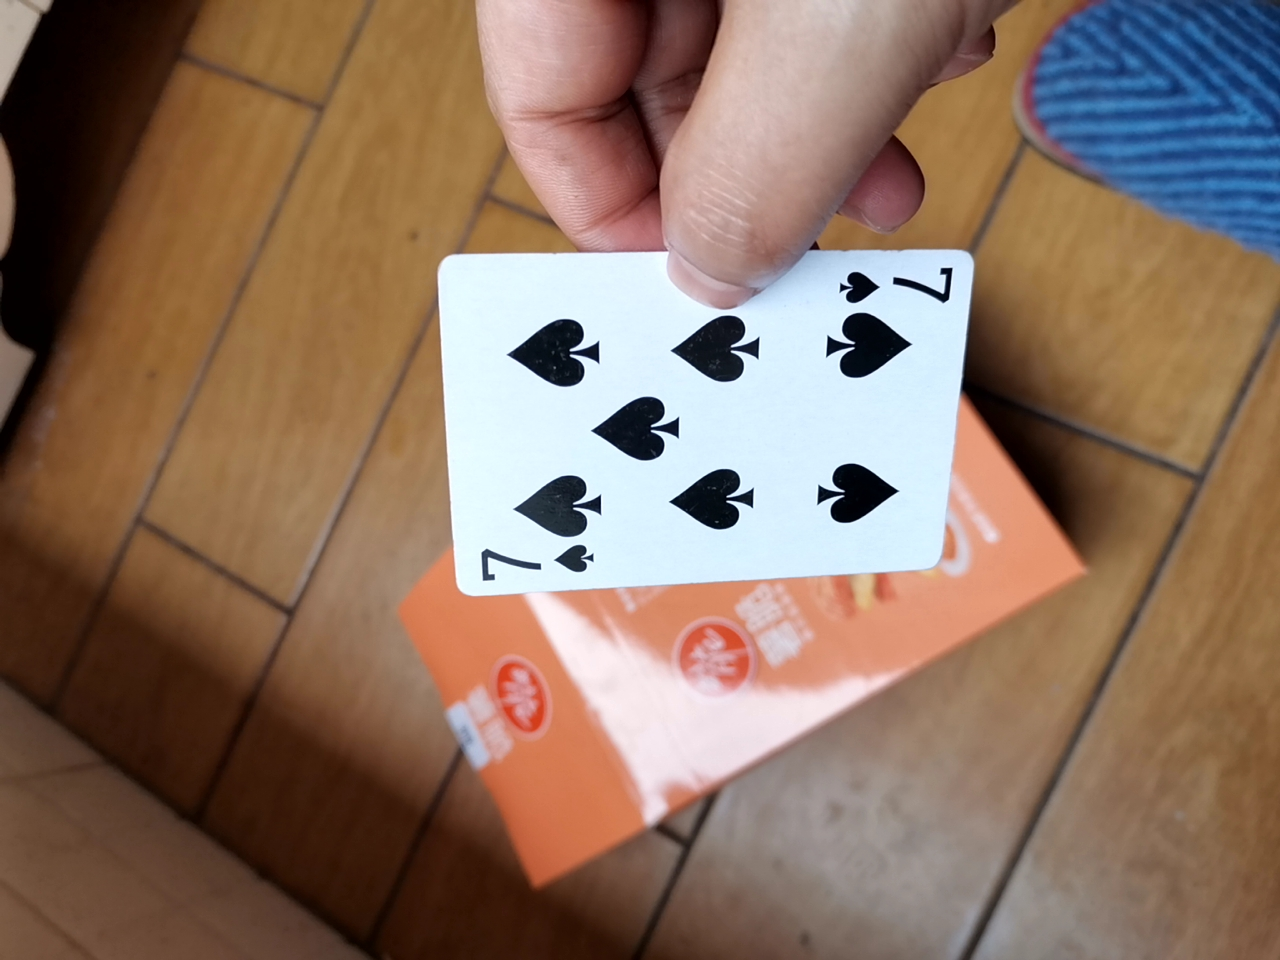ht 7: (424, 261, 979, 588)
